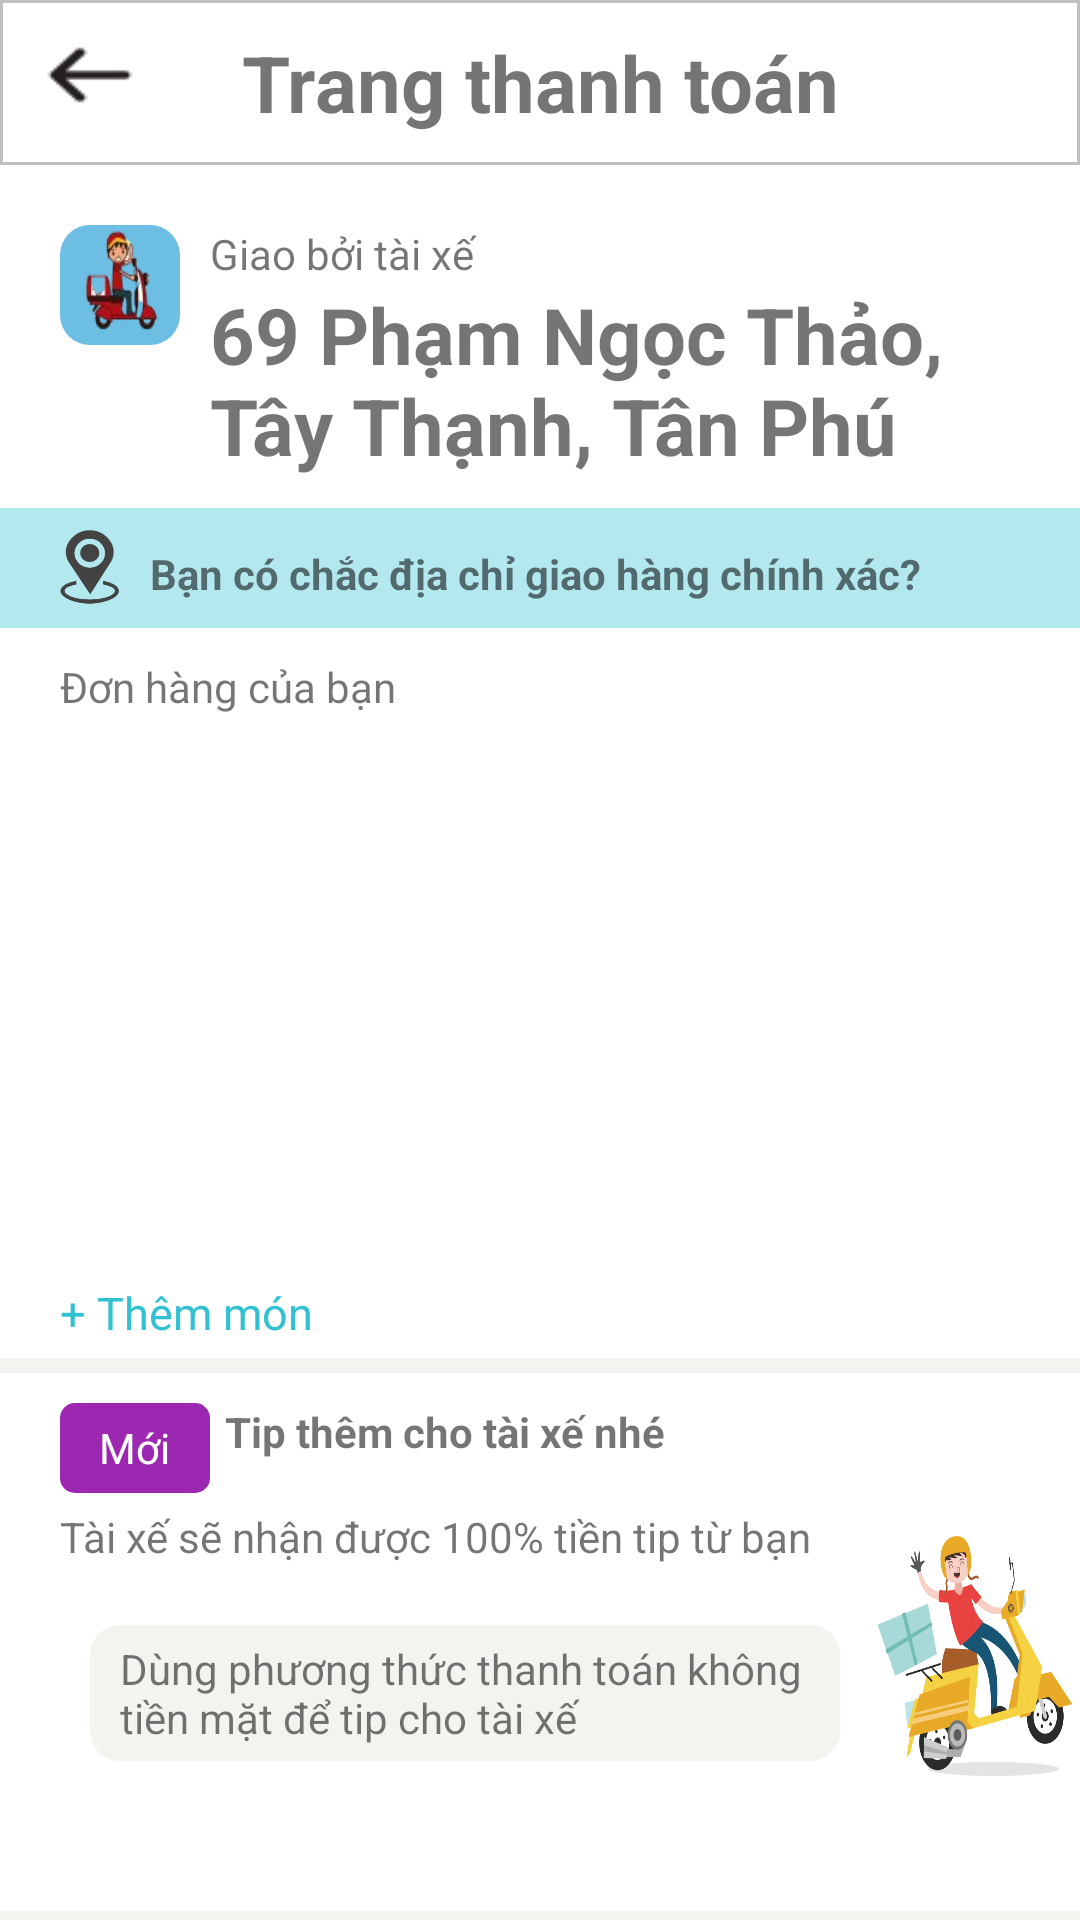

Icons on this 1080px x 1920px Android screen, each with its box as (x1=x1, y1=y1, x2=x2, y2=y2):
back: (x1=48, y1=47, x2=132, y2=103)
giaohang thanhtoan: (x1=60, y1=225, x2=180, y2=345)
giaohang tip: (x1=878, y1=1536, x2=1072, y2=1776)
vitri: (x1=60, y1=530, x2=119, y2=604)
